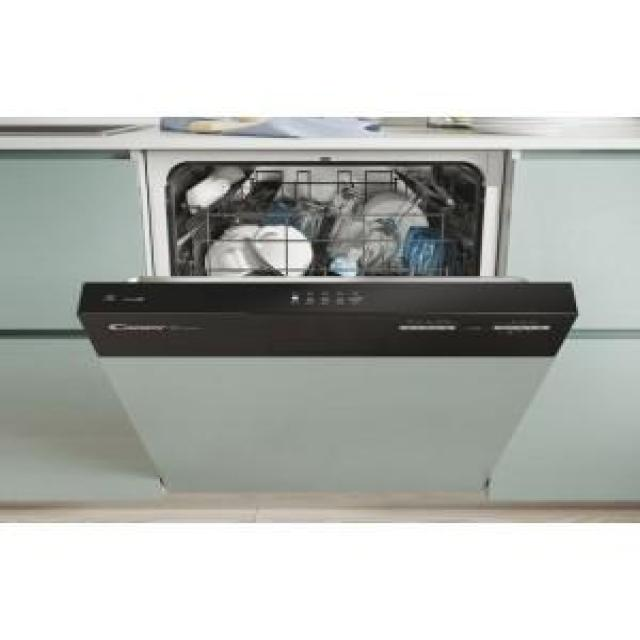dishwasher: (70, 146, 584, 500)
